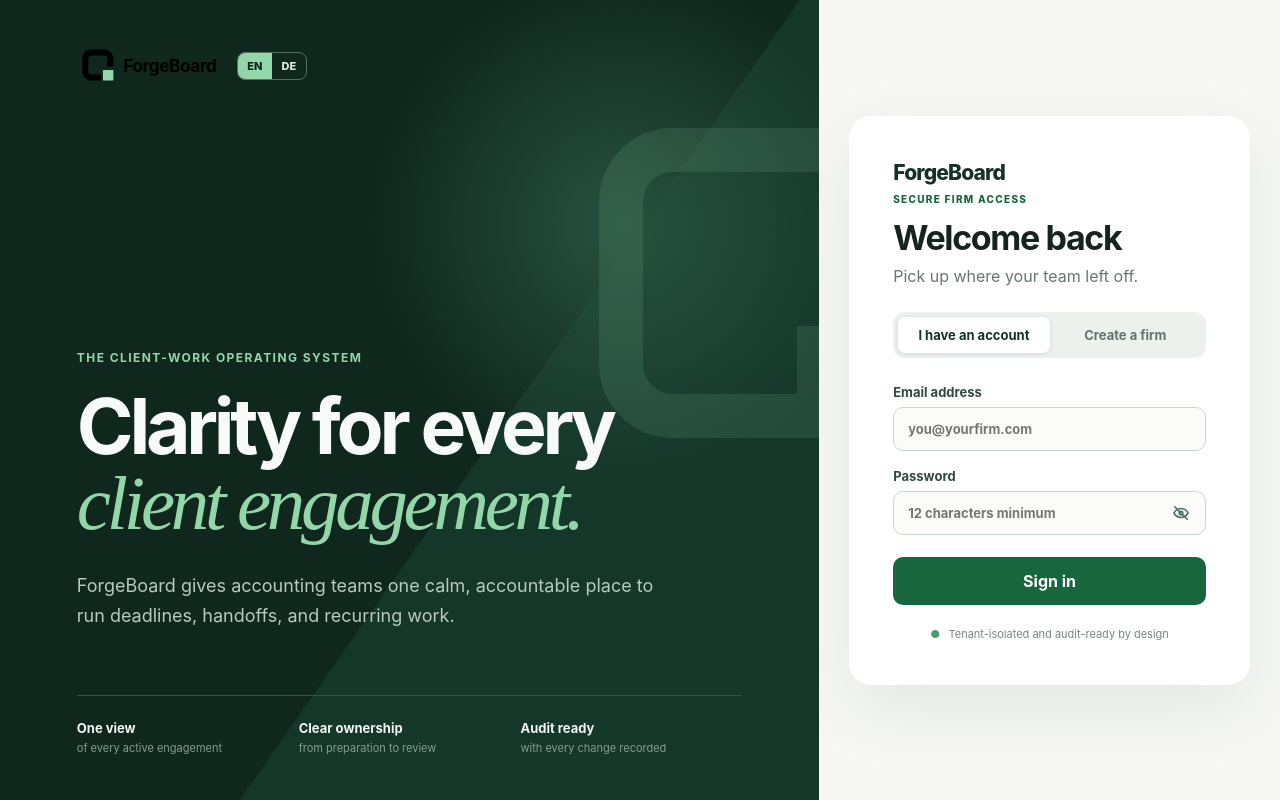
Test: App › switches the access screen to German and persists the choice
Click the button with aria-label "Deutsch" at (289, 66), box [272,53,306,79]
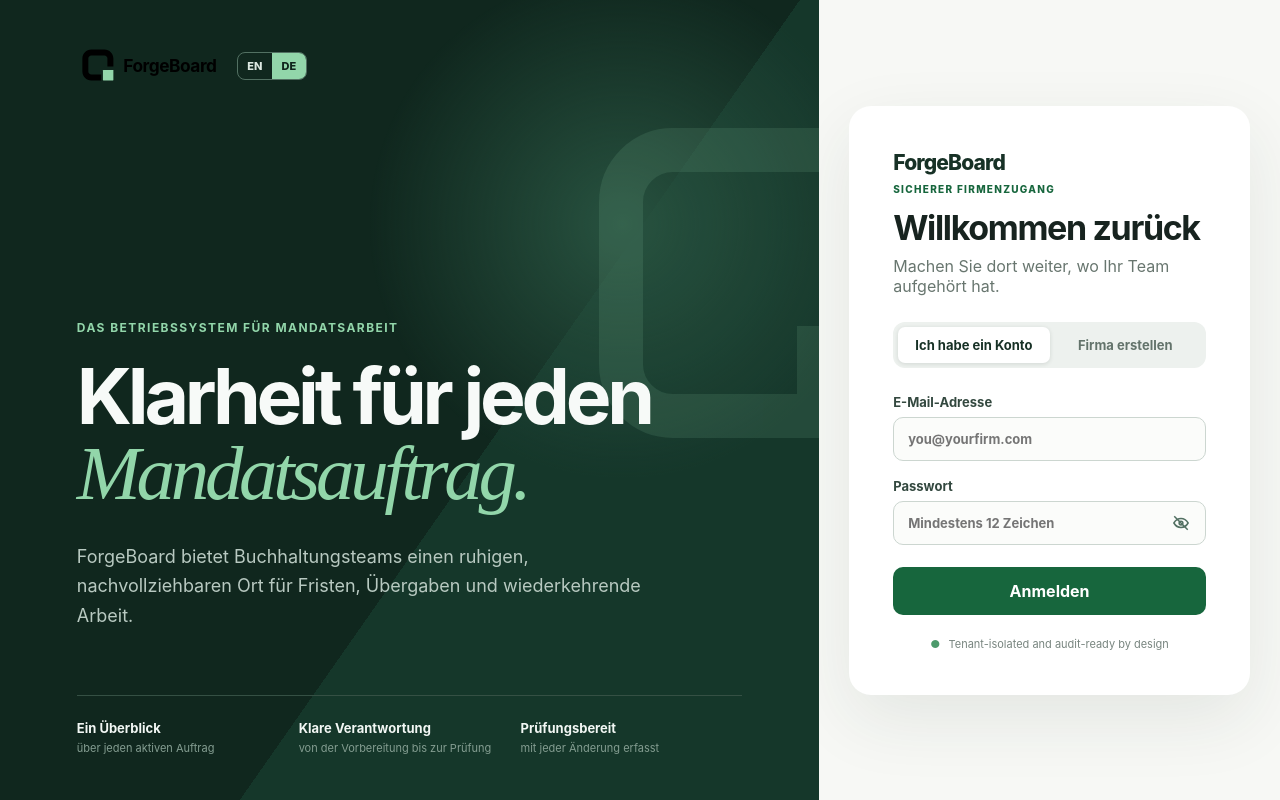
Now the heading "Willkommen zurück" is shown, box [893,206,1206,248]
